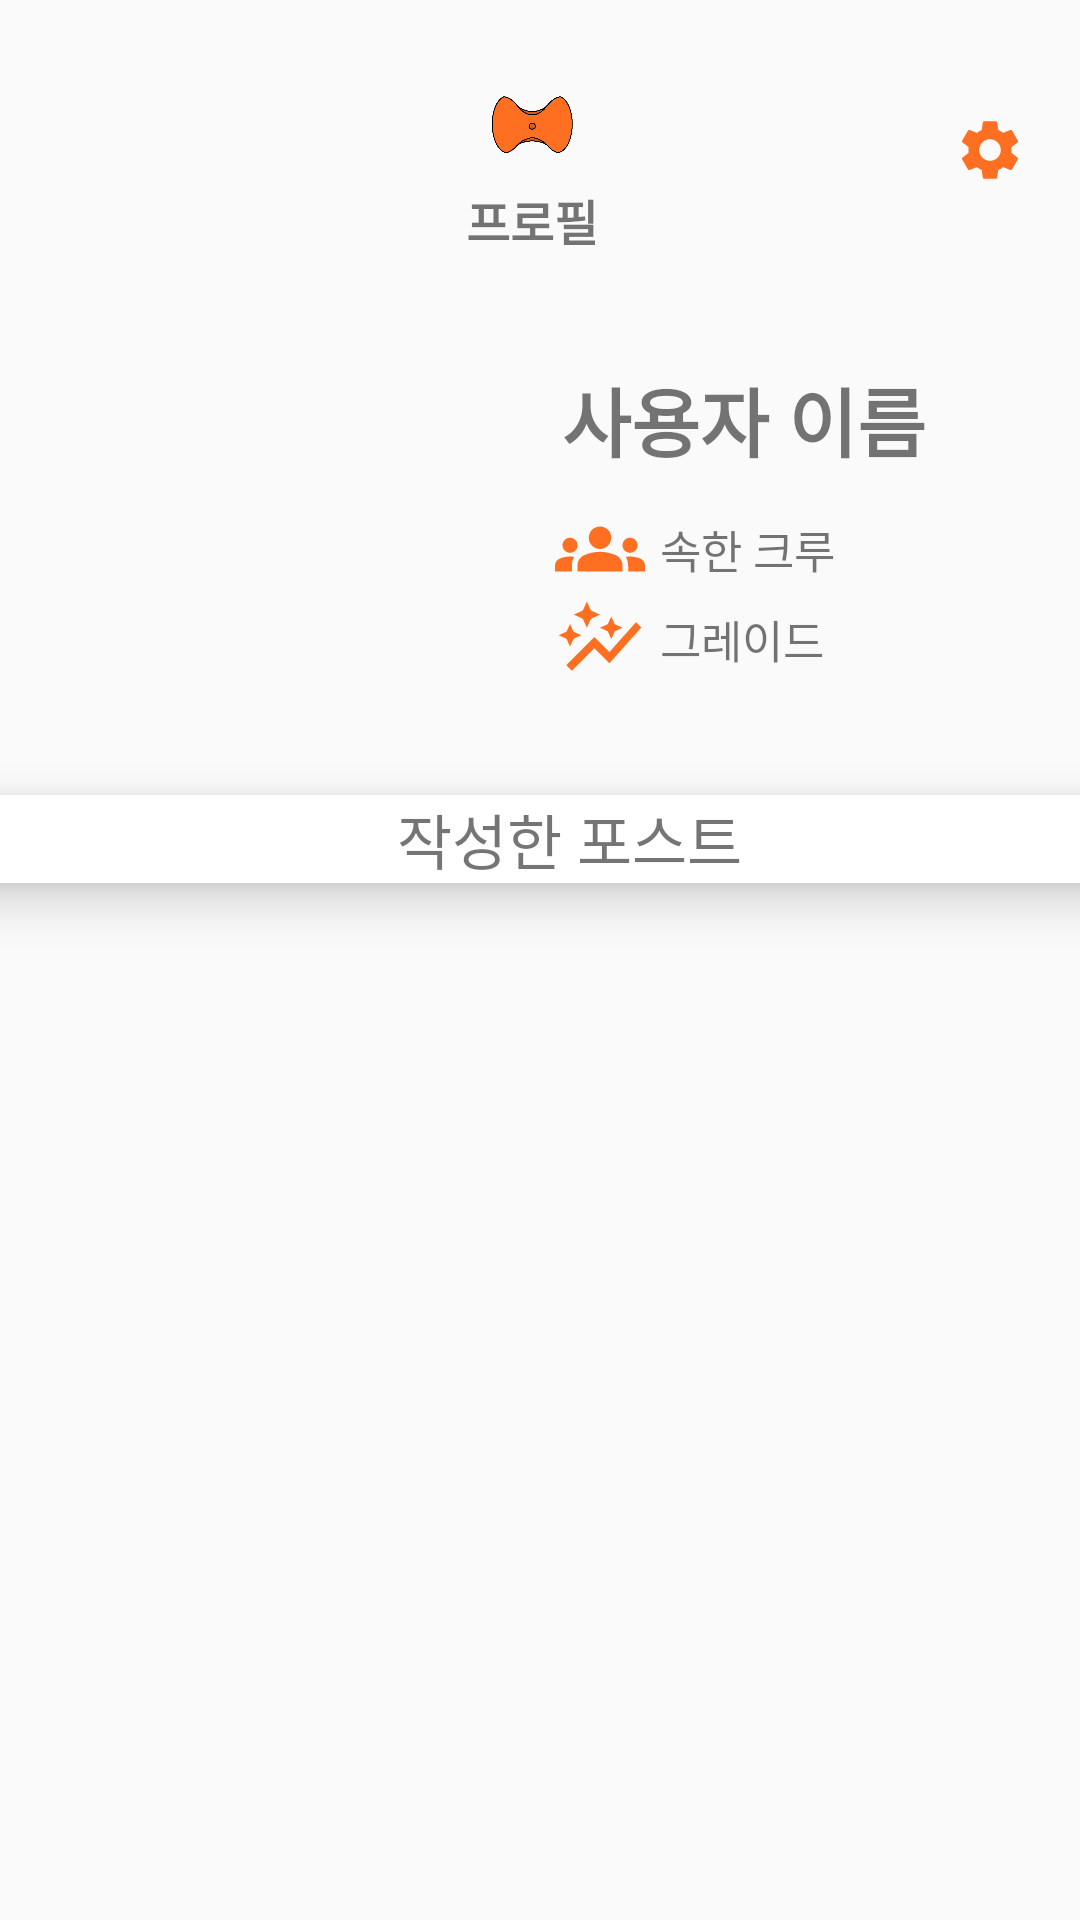

Icon bounding boxes for this 1080px×1920px phone screenshot, format (x1, y1, x2, y2):
frag crew: (555, 526, 645, 572)
frag grade: (559, 601, 641, 671)
frag settings: (962, 121, 1018, 179)
